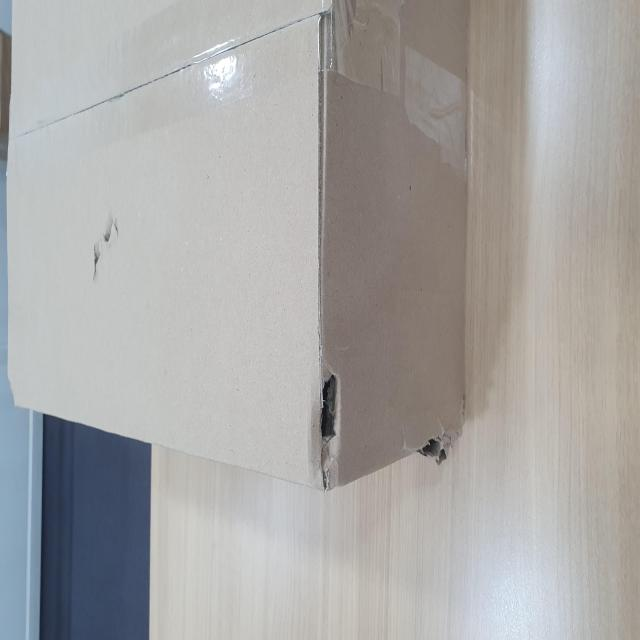damaged: (84, 543, 152, 614)
